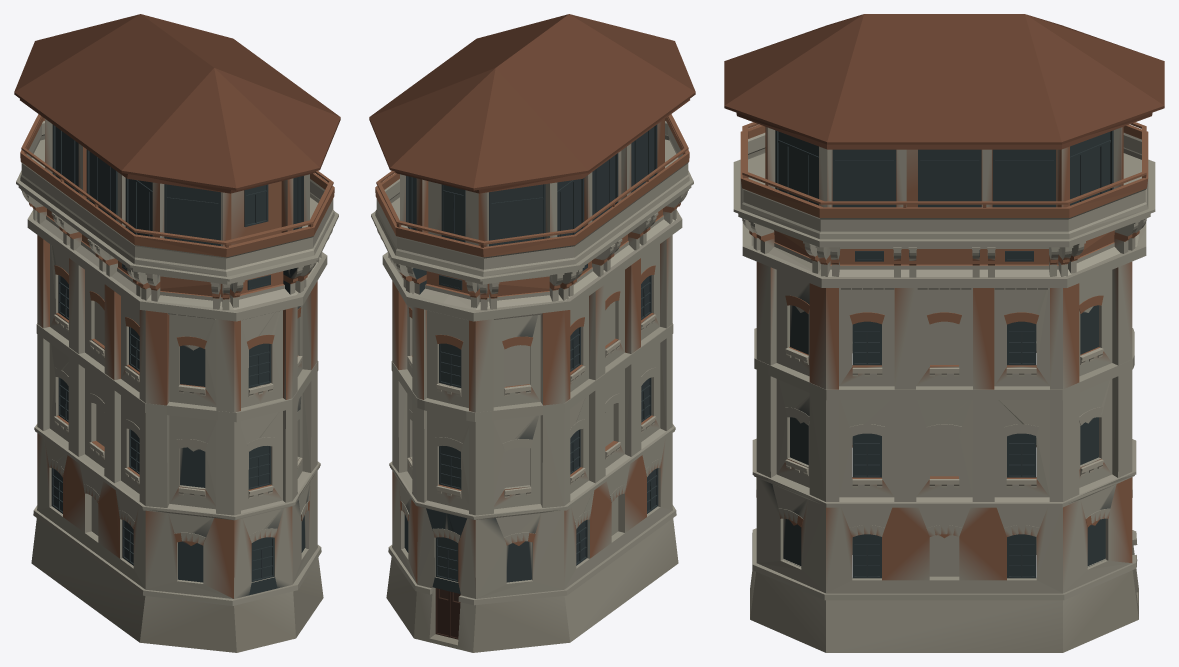
The picture shows the model from 3 angles, left to right: view 1: azimuth 30°, elevation 25°; view 2: azimuth 150°, elevation 25°; view 3: azimuth 270°, elevation 25°; orthographic projection. The views are drawn at different scales.
Visible parts, largest first — view 1: MiddlePart, Roof, Tower, RedLines, TowerBase, Big_Windows, Windows, SquaredDecor, Fenster_ArchTop, Tower.016, DecorWindowBottom, DecorWindowBottom.001; view 2: MiddlePart, Roof, Tower, RedLines, TowerBase, Big_Windows, Windows, SquaredDecor, Fenster_ArchTop, Tower.016, Door, DecorWindowBottom (+1 smaller); view 3: MiddlePart, Roof, Tower, RedLines, TowerBase, Big_Windows, Windows, Fenster_ArchTop, SquaredDecor, Tower.016, DecorWindowBottom, DecorWindowBottom.001 (+1 smaller).
Boxes of the visible parts, x1,y1,x2,y2 form: MiddlePart: [37, 209, 317, 515]; Roof: [14, 14, 340, 193]; Tower: [16, 117, 338, 605]; RedLines: [37, 433, 317, 598]; TowerBase: [31, 518, 323, 652]; Big_Windows: [52, 124, 303, 245]; Windows: [51, 275, 274, 581]; SquaredDecor: [21, 190, 334, 319]; Fenster_ArchTop: [48, 265, 309, 545]; Tower.016: [21, 114, 333, 247]; DecorWindowBottom: [54, 314, 302, 396]; DecorWindowBottom.001: [54, 416, 302, 498]; MiddlePart: [392, 209, 672, 515]; Roof: [369, 14, 695, 193]; Tower: [371, 117, 693, 605]; RedLines: [392, 433, 672, 598]; TowerBase: [386, 518, 678, 652]; Big_Windows: [406, 124, 657, 246]; Windows: [435, 275, 658, 581]; SquaredDecor: [375, 190, 688, 319]; Fenster_ArchTop: [400, 265, 661, 545]; Tower.016: [376, 114, 688, 247]; Door: [435, 588, 460, 639]; DecorWindowBottom: [407, 314, 656, 396]; MiddlePart: [756, 230, 1132, 501]; Roof: [724, 14, 1164, 149]; Tower: [733, 124, 1155, 600]; RedLines: [756, 438, 1132, 593]; TowerBase: [750, 537, 1138, 652]; Big_Windows: [775, 130, 1113, 207]; Windows: [852, 321, 1036, 578]; Fenster_ArchTop: [756, 295, 1132, 537]; SquaredDecor: [742, 218, 1146, 289]; Tower.016: [742, 122, 1146, 207]; DecorWindowBottom: [785, 347, 1103, 376]; DecorWindowBottom.001: [785, 459, 1103, 487].
Size of the model in its own units: 9.34 by 21.97 by 14.86.
